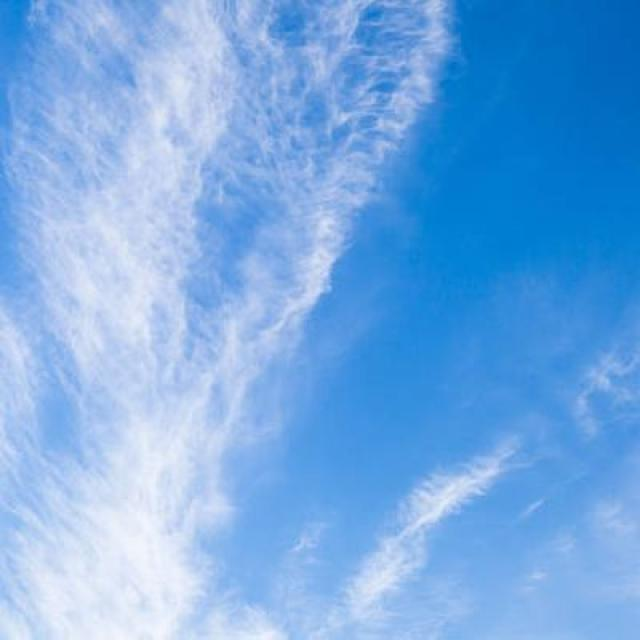As: (13, 12, 427, 640)
